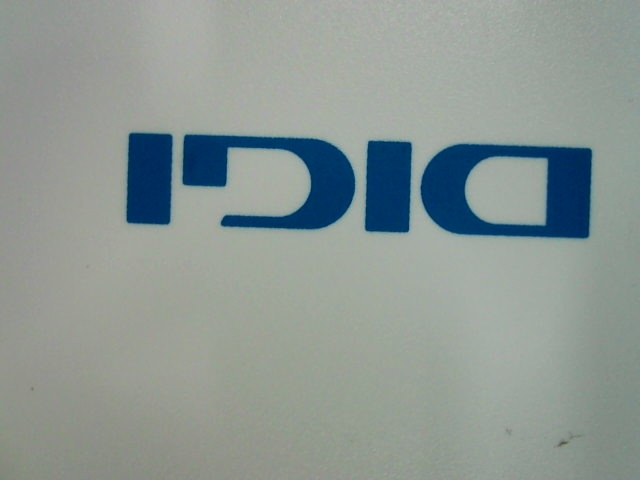BL_DIGI: (113, 123, 598, 246)
